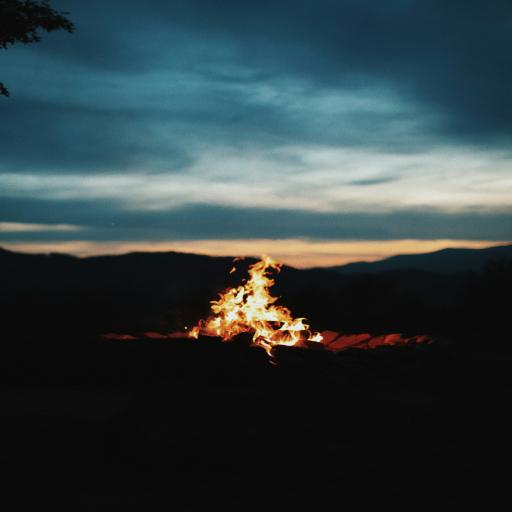campfire: (130, 229, 388, 401)
